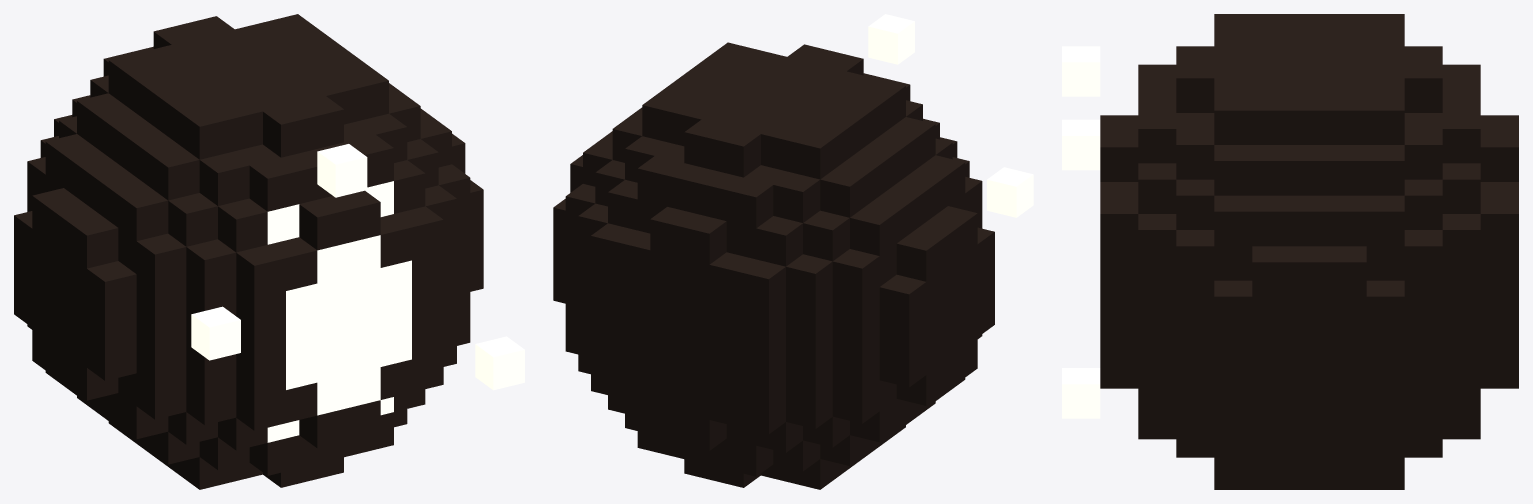
The model's file is ash_ember.glb.
3 views of the same model, side by side, from view 1: azimuth 30°, elevation 25°; view 2: azimuth 150°, elevation 25°; view 3: azimuth 270°, elevation 25° (orthographic). The views are drawn at different scales.
Visible parts, largest first — view 1: ash_ember; view 2: ash_ember; view 3: ash_ember.
Boxes of the visible parts, x1,y1,x2,y2 form: ash_ember: (14,14,524,489); ash_ember: (553,14,1033,489); ash_ember: (1062,14,1518,489).
Bounding box in the file's own units: 0.24 × 0.22 × 0.24.
